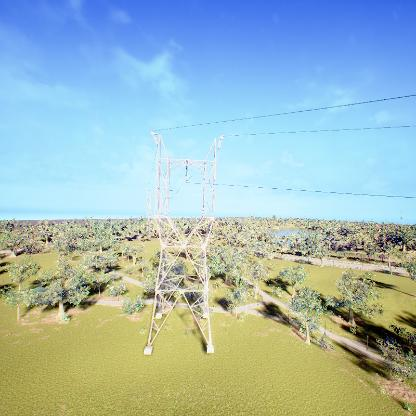tower: (138, 128, 229, 355)
